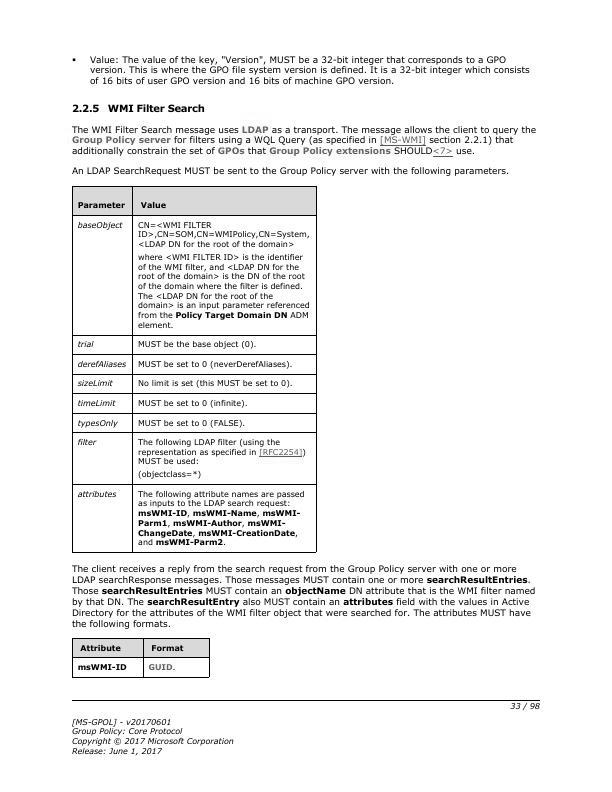table: (73, 186, 317, 554), (72, 638, 211, 679)
text: (69, 561, 541, 631), (70, 122, 541, 160), (83, 54, 531, 89), (67, 715, 238, 759), (69, 165, 514, 179), (67, 101, 205, 116)
